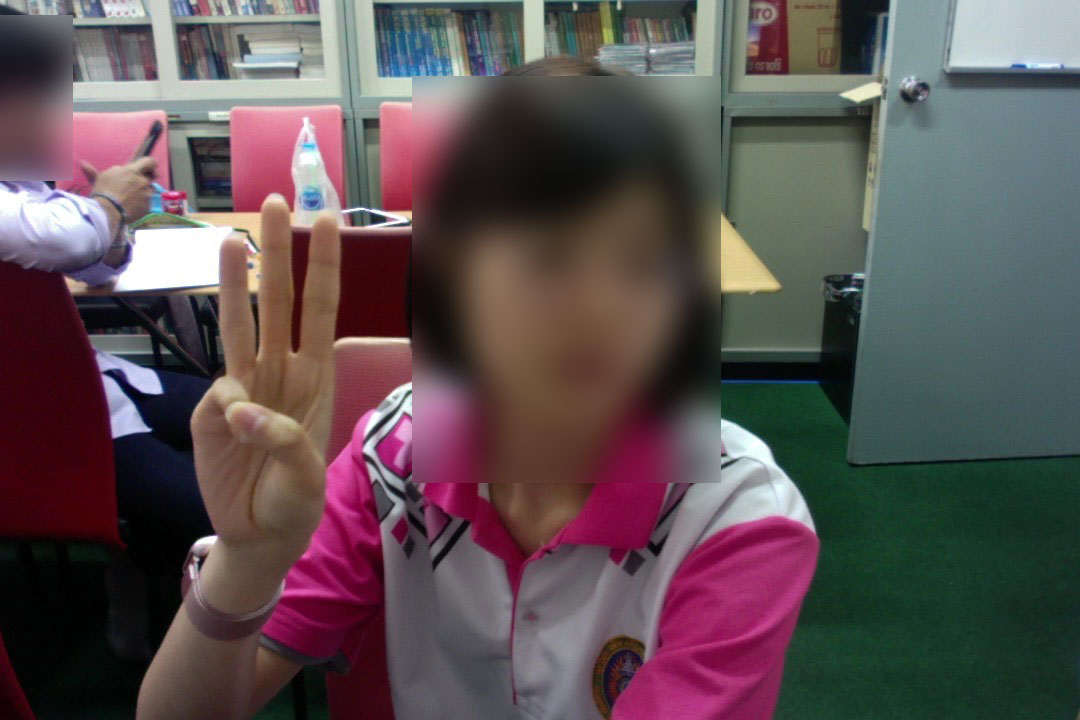wor: (167, 195, 358, 562)
